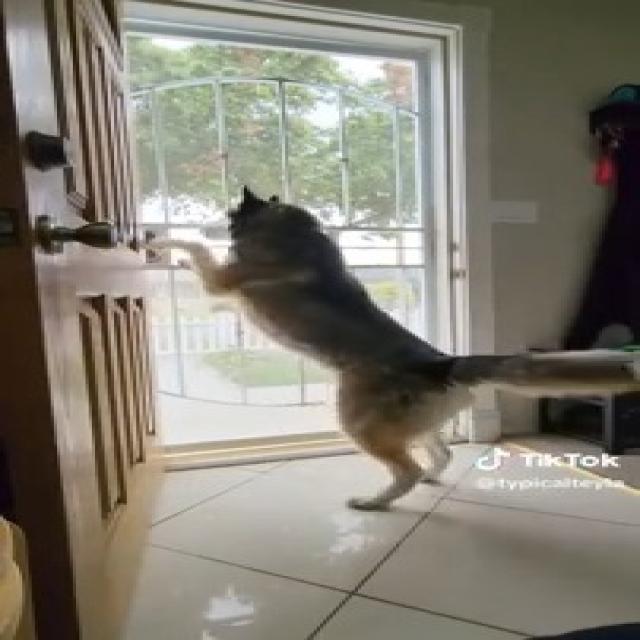dogs: (130, 183, 640, 509)
